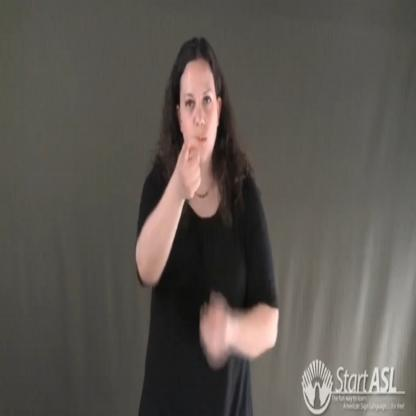HowAreYou: (158, 129, 220, 223)
